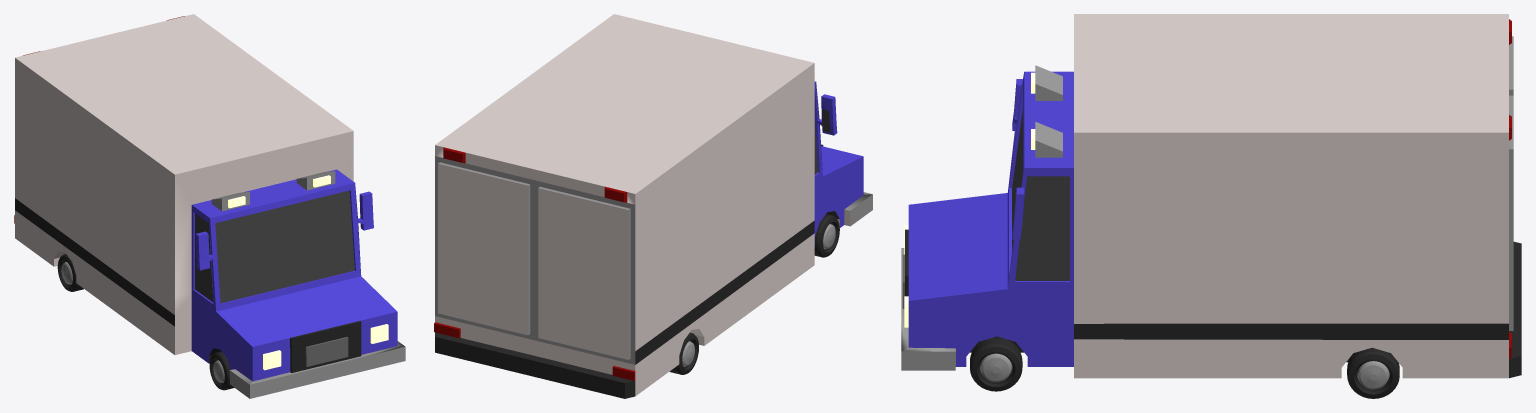
The model's file is truck 1.fbx.
The picture shows the model from 3 angles, left to right: view 1: azimuth 30°, elevation 25°; view 2: azimuth 150°, elevation 25°; view 3: azimuth 270°, elevation 25°; orthographic projection. The views are drawn at different scales.
Visible parts, largest first — view 1: Ambulance, g24.wheel_fl.006, g24.wheel_fl.008; view 2: Ambulance, g24.wheel_fl.006, g24.wheel_fl.008; view 3: Ambulance, g24.wheel_fl.005, g24.wheel_fl.007.
Boxes of the visible parts, <box> form: Ambulance: <box>14,14,405,398</box>; g24.wheel_fl.006: <box>209,351,234,390</box>; g24.wheel_fl.008: <box>57,254,83,291</box>; Ambulance: <box>434,14,872,398</box>; g24.wheel_fl.006: <box>814,214,839,257</box>; g24.wheel_fl.008: <box>669,332,698,374</box>; Ambulance: <box>901,14,1521,378</box>; g24.wheel_fl.005: <box>970,337,1022,391</box>; g24.wheel_fl.007: <box>1347,347,1399,398</box>.
Bounding box in the file's own units: 174 × 184 × 385.
